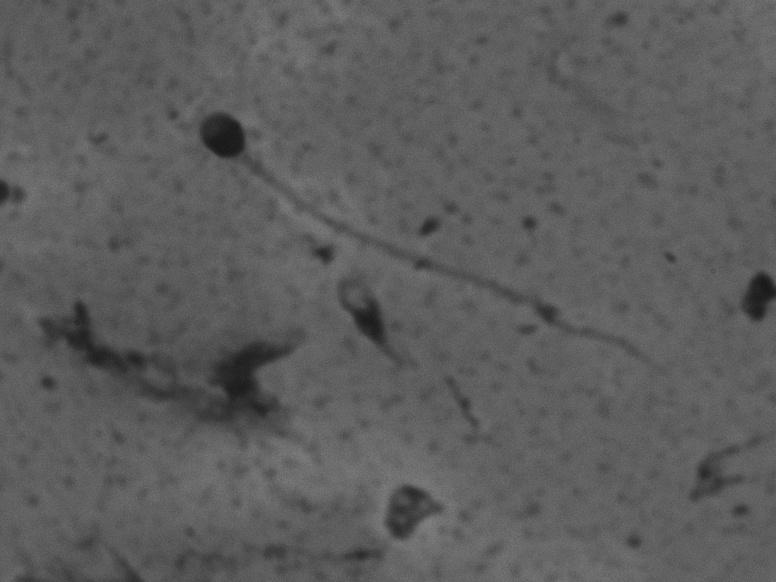Abnormal: (164, 98, 681, 387)
